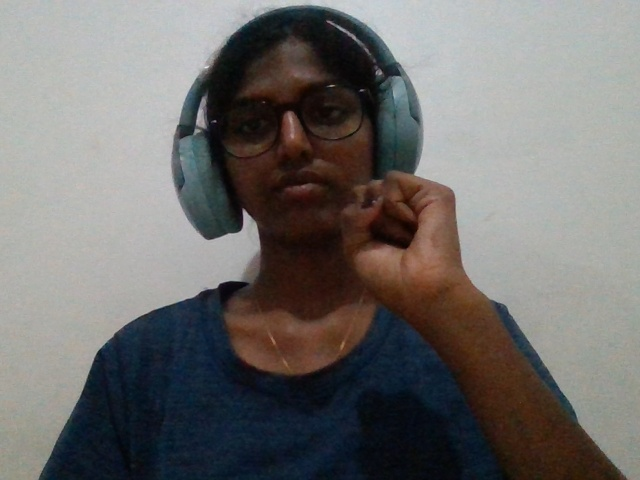Yes: (319, 151, 504, 391)
